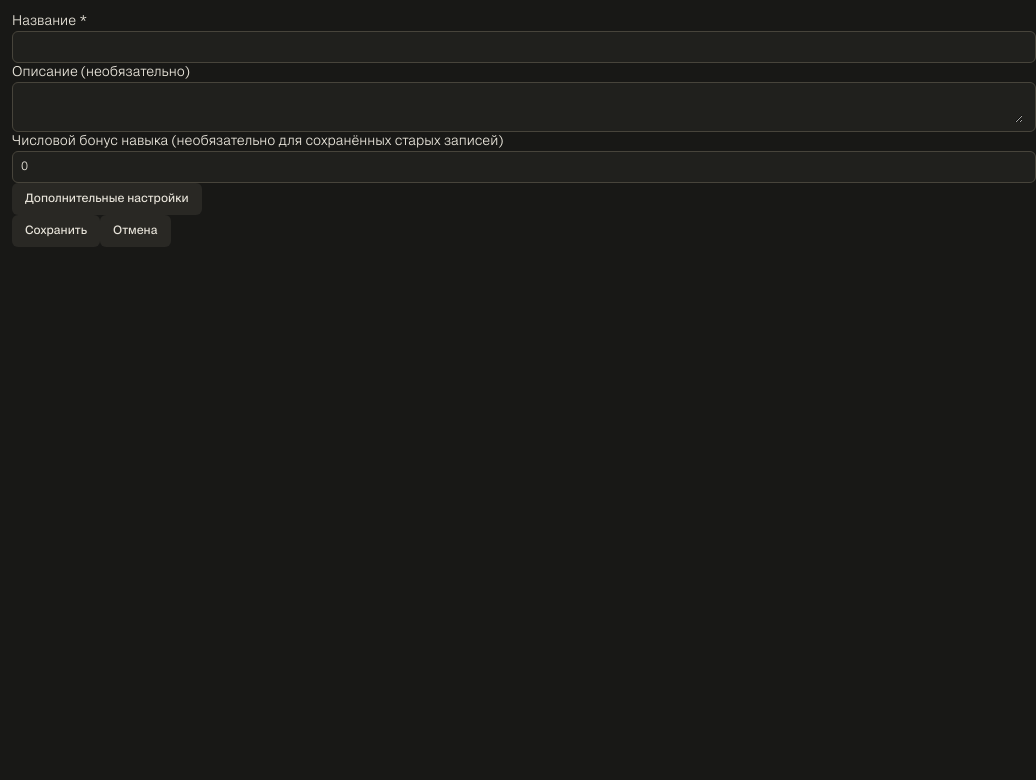
Test case: keeps technical values behind an accessible closed disclosure
This screenshot has width=1036, height=780.
Expected: the text "Дополнительные числовые параметры" is not shown
Expected: the dropdown labelled "Тип" is not shown
Click the button "Дополнительные настройки".
click(107, 199)  # box [12,183,202,215]
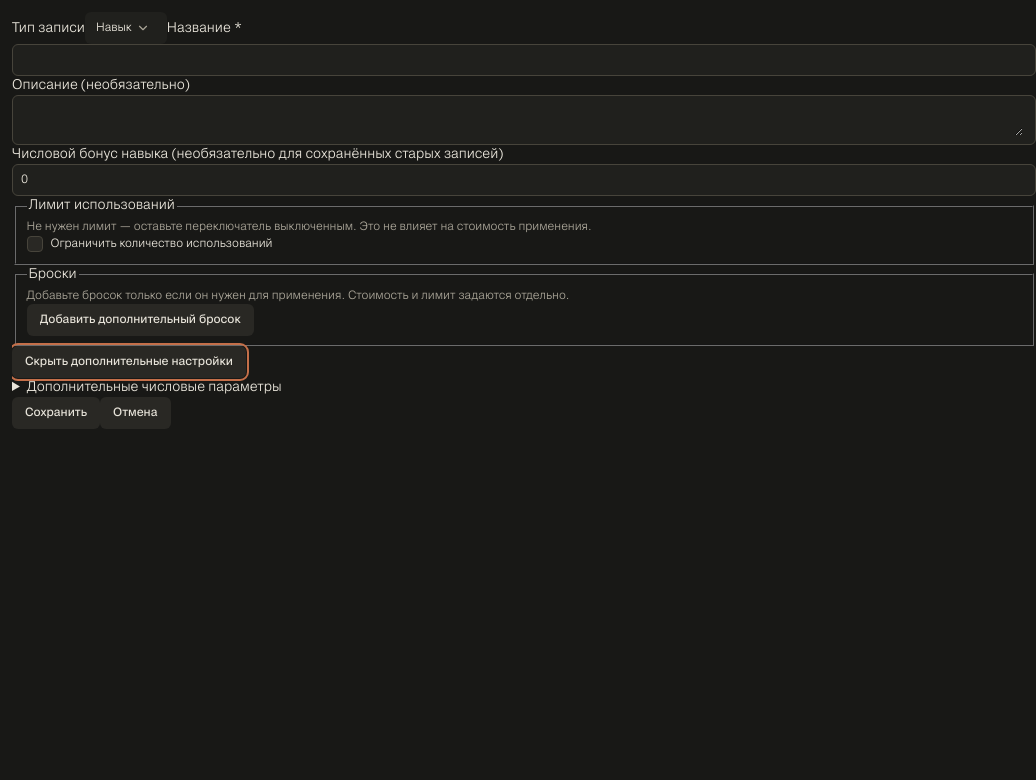
Expected: the text "Дополнительные числовые параметры" is shown
Expected: the dropdown named "Тип записи" is shown, [85,12,167,44]
Click the heading "Дополнительные числовые параметры".
click(154, 388)  # box [27,381,282,394]
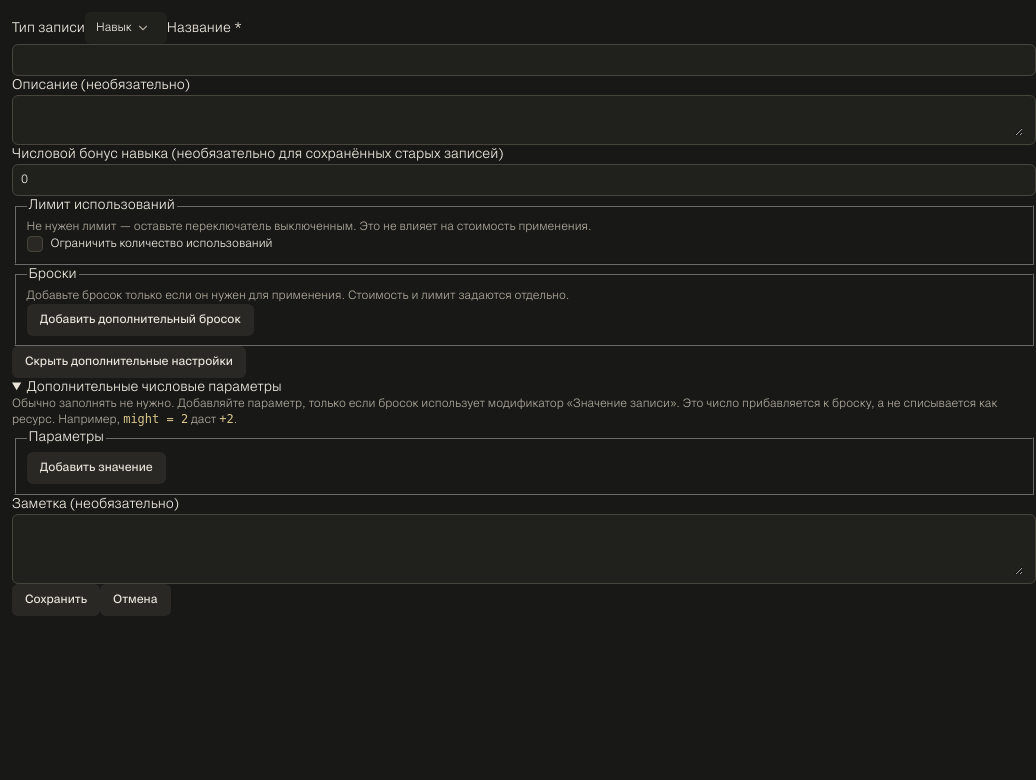
Expected: the text "Лимит использований" is shown, [26,196,177,215]
Expected: the text "Броски" is shown, [26,265,79,284]
Expected: the text "Обычно заполнять не нужно" is shown, [12,399,997,425]
